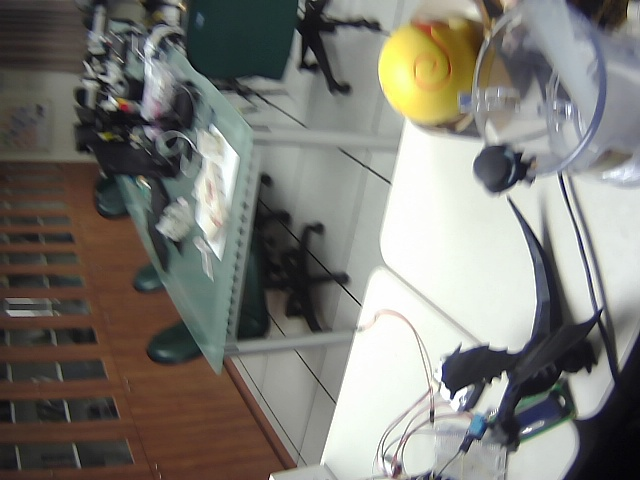charizard: (409, 188, 628, 457)
